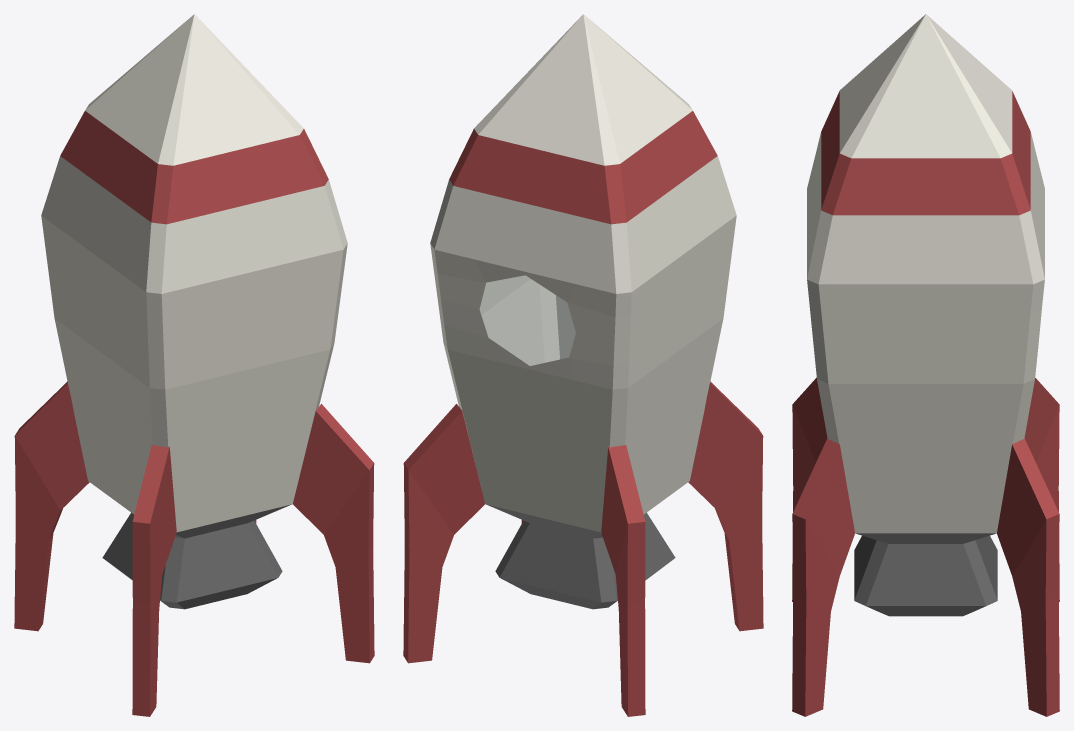
Rendered from SeedShip.fbx.
3 renders of one model, left to right at view 1: azimuth 30°, elevation 25°; view 2: azimuth 150°, elevation 25°; view 3: azimuth 270°, elevation 25°, orthographic. The views are drawn at different scales.
Visible parts, largest first — view 1: SeedShip, Feet; view 2: SeedShip, Feet; view 3: SeedShip, Feet.
Part boxes in pixels (x1,y1,x2,y2): SeedShip: (41,14,347,609); Feet: (14,381,374,716); SeedShip: (430,14,736,609); Feet: (403,381,763,716); SeedShip: (807,14,1044,616); Feet: (792,378,1059,716).
Size of the model in its own units: 137 by 340 by 128.
